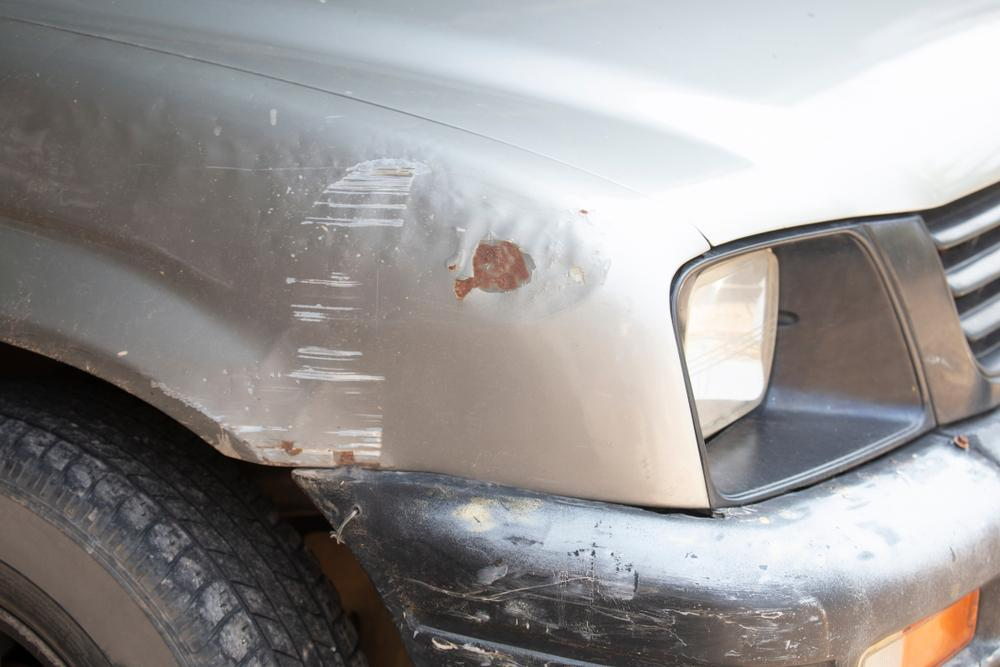dent: (0, 89, 599, 315)
scratch: (418, 544, 835, 667), (160, 266, 388, 470)
